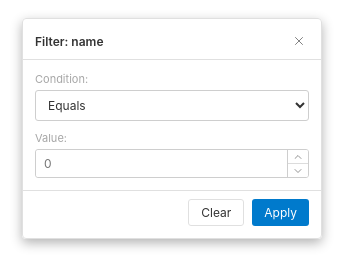
Test: FilterPopup › custom numeric input (number columns) › chevrons work on empty input (treats as 0)
Select "Equals" in the dropdown. click: (172, 106)
box: left=35, top=90, right=309, bottom=121
Click the button named "Increase". click: (298, 156)
box: left=288, top=150, right=308, bottom=163
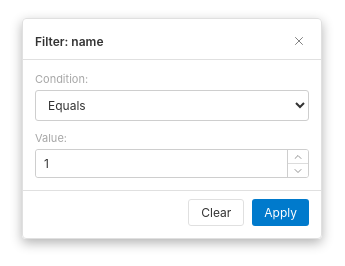
Check: the field with placeholder "0" holds "1", box left=36, top=150, right=287, bottom=177
